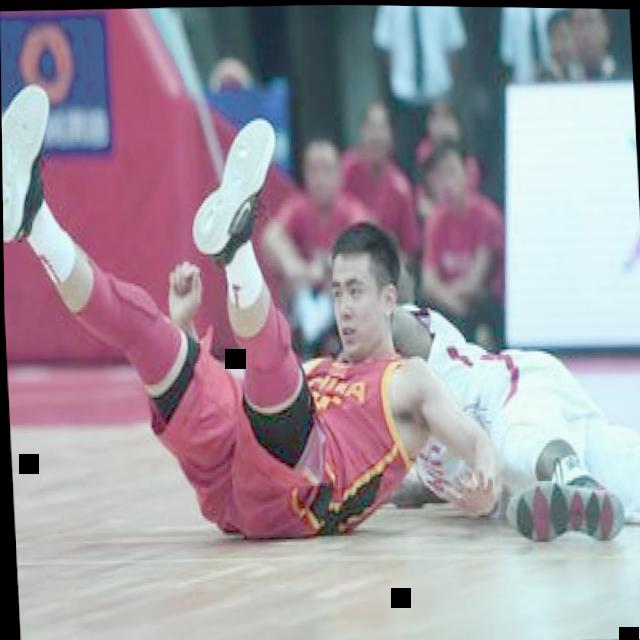Fall-Detected: (350, 216, 640, 567)
